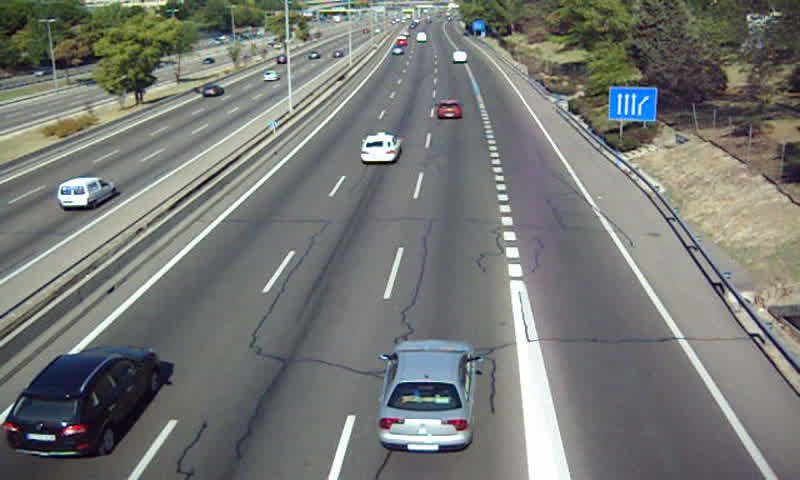car: (4, 347, 158, 459), (379, 339, 475, 450), (361, 132, 402, 162), (436, 100, 462, 121)
van: (452, 50, 468, 64)
